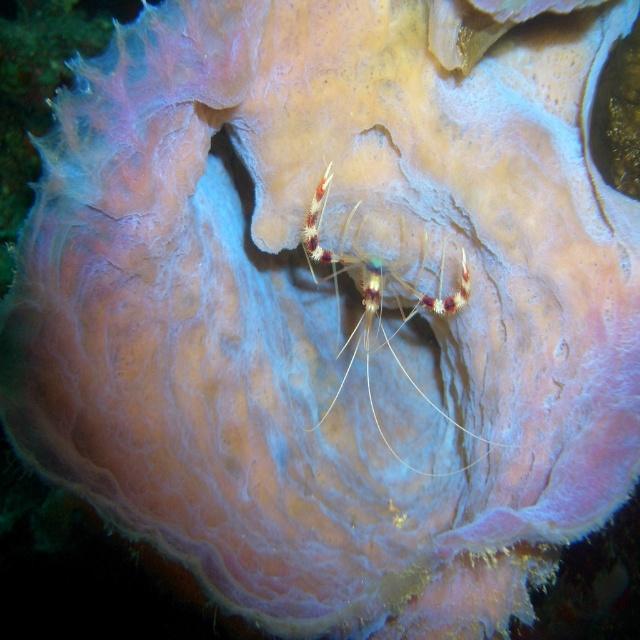Jellyfish: (0, 0, 638, 639)
